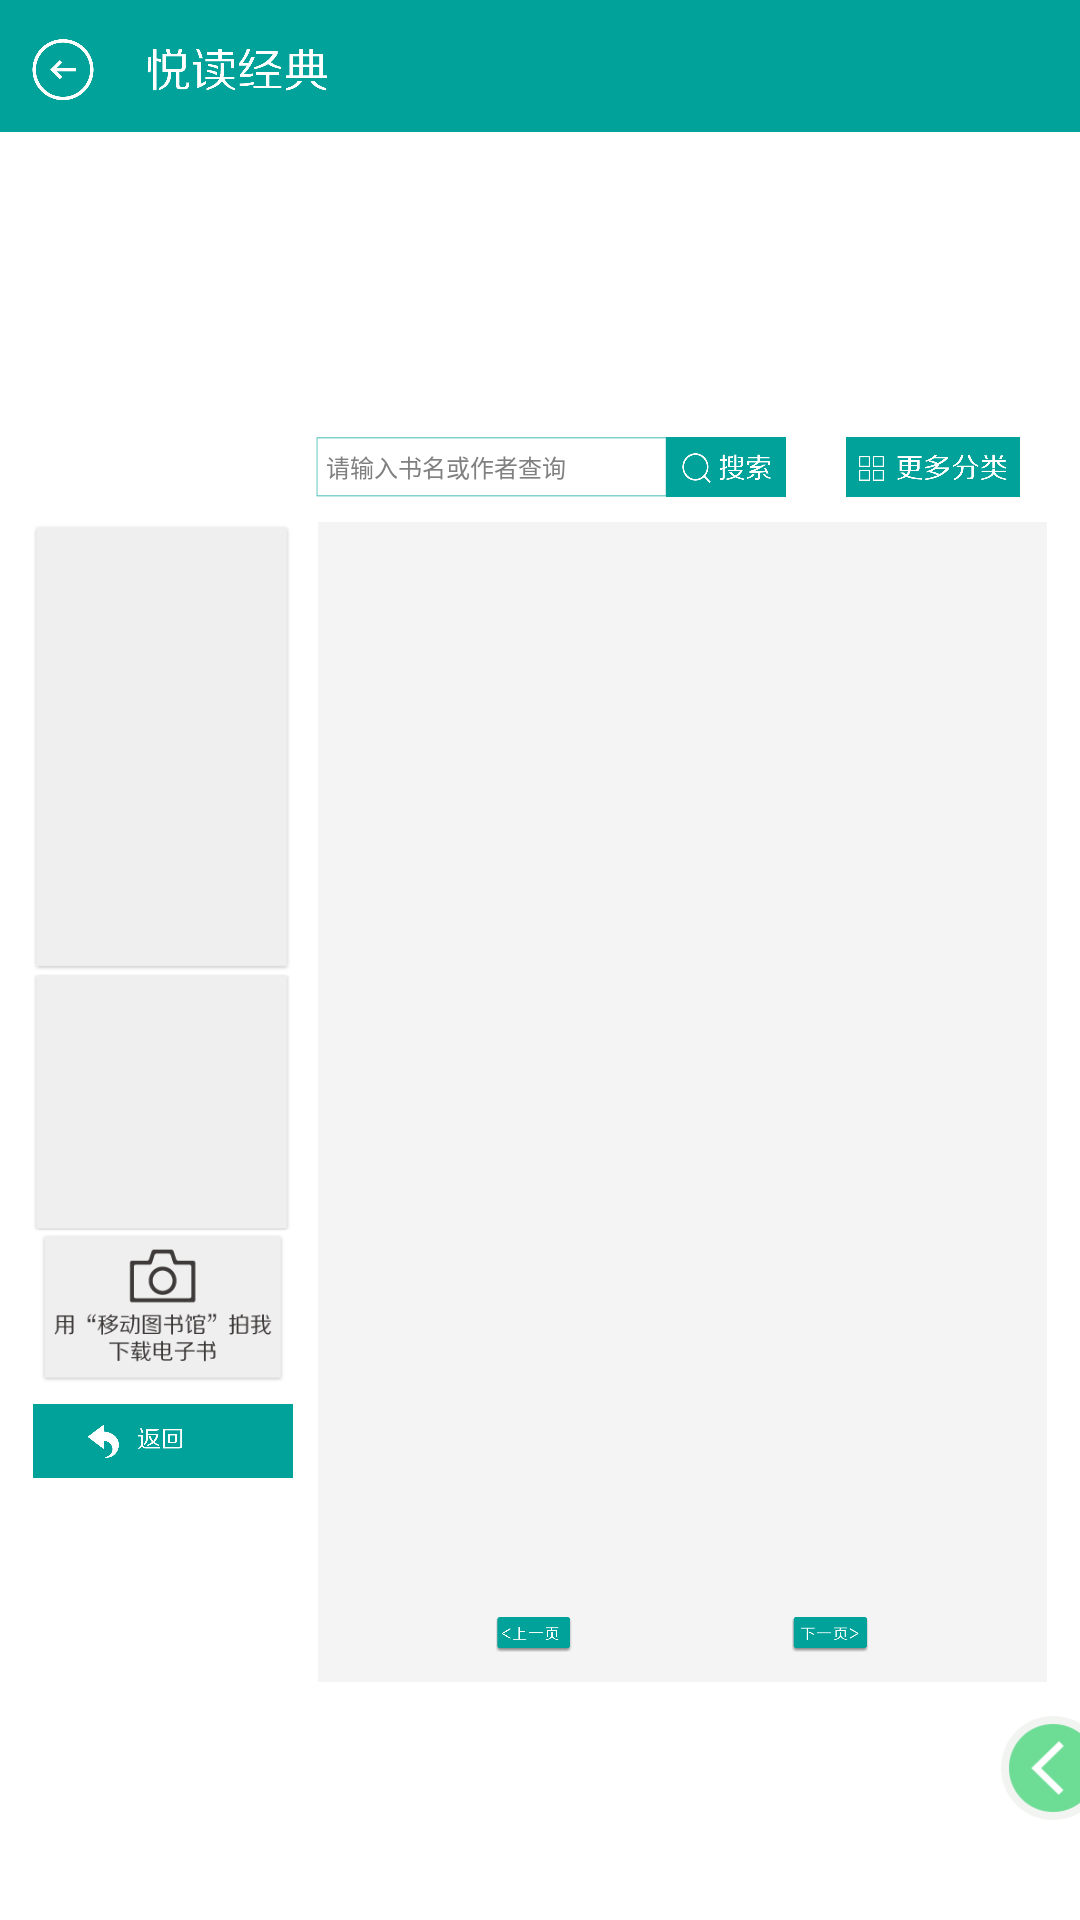

Point at icon controls on the screen. Image size 1080px x 1920px, points as point (x, y).
remain hide: point (1044, 1768)
